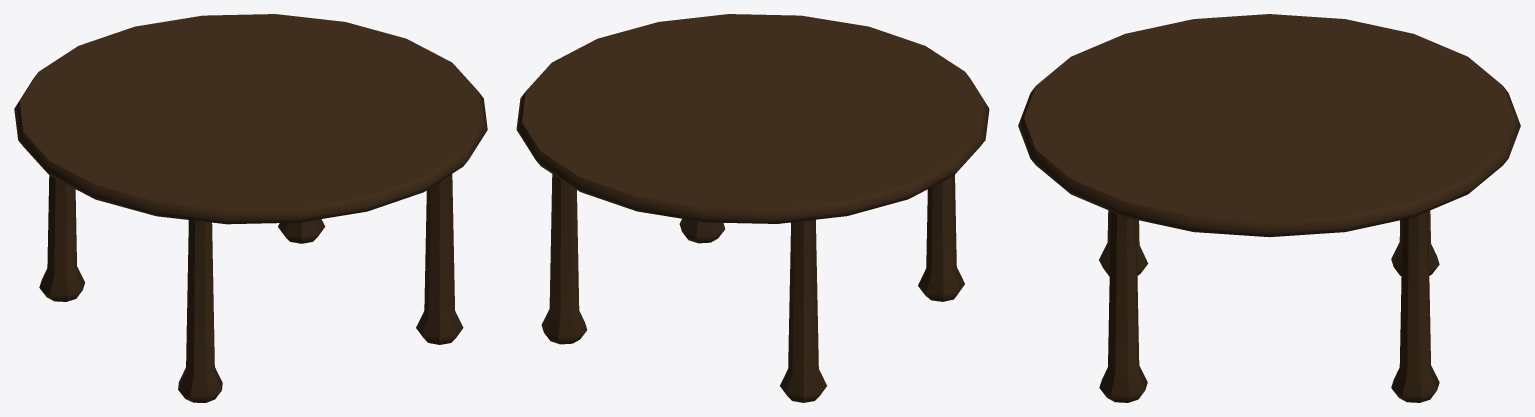
Rendered from tableexport.obj.
3 renders of one model, left to right at view 1: azimuth 30°, elevation 25°; view 2: azimuth 150°, elevation 25°; view 3: azimuth 270°, elevation 25°, orthographic. The views are drawn at different scales.
Visible parts, largest first — view 1: table; view 2: table; view 3: table.
Part boxes in pixels (x1,y1,x2,y2): table: (14, 14, 487, 402); table: (516, 14, 989, 402); table: (1018, 14, 1520, 402).
Size of the model in its own units: 10.34 by 4.91 by 10.34.
